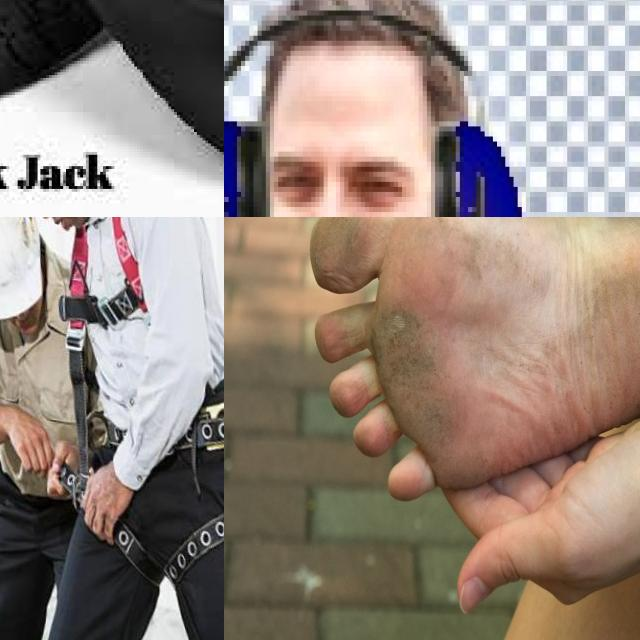Barefoots: (309, 217, 640, 501)
Ear-protection: (224, 11, 542, 217)
Harness: (60, 217, 148, 488), (115, 512, 224, 588), (175, 381, 224, 498)
Sandals: (0, 0, 224, 217)
